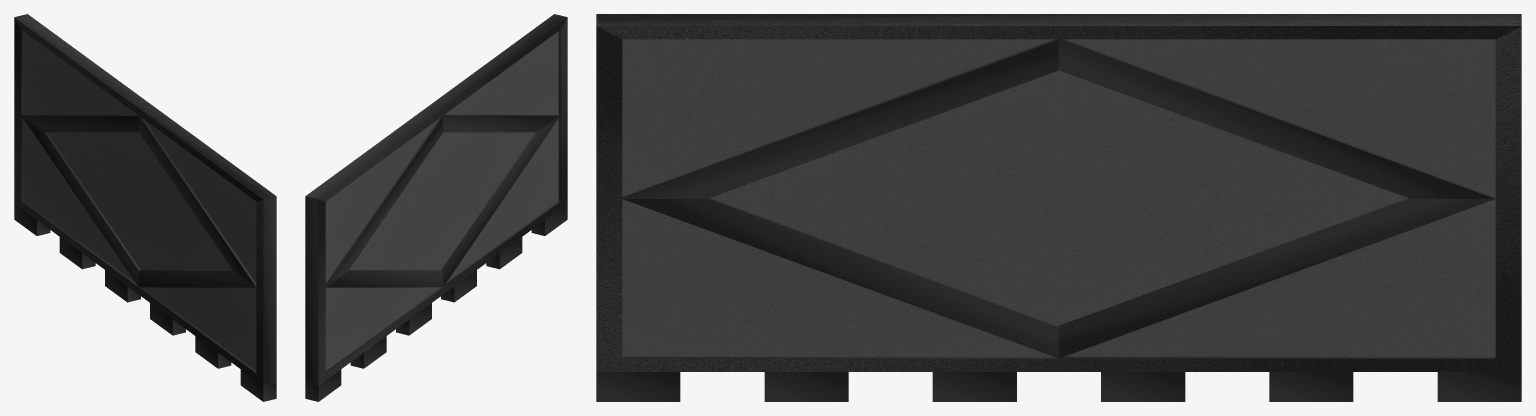
File: DoorWide.fbx
3 renders of one model, left to right at view 1: azimuth 30°, elevation 25°; view 2: azimuth 150°, elevation 25°; view 3: azimuth 270°, elevation 25°, orthographic. The views are drawn at different scales.
Parts seen in each view (by area): view 1: Box001; view 2: Box001; view 3: Box001.
Part boxes in pixels (<box>): Box001: <box>14,14,276,401</box>; Box001: <box>305,14,567,401</box>; Box001: <box>596,14,1521,401</box>.
Size of the model in its own units: 12.36 by 179 by 400.
2 materials, 2 textured.
